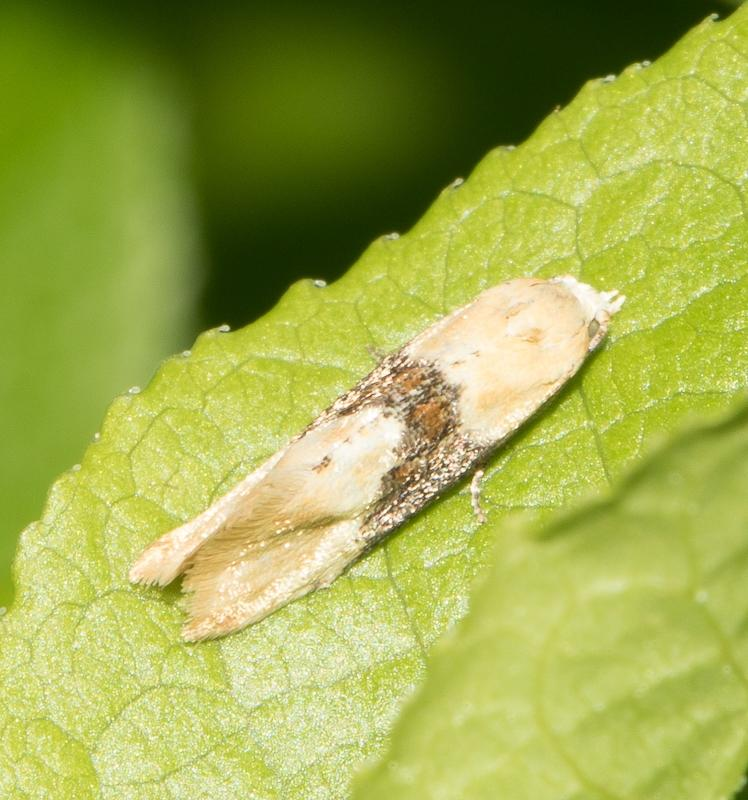Eupoecilia Ambiguella: (125, 270, 625, 647)
